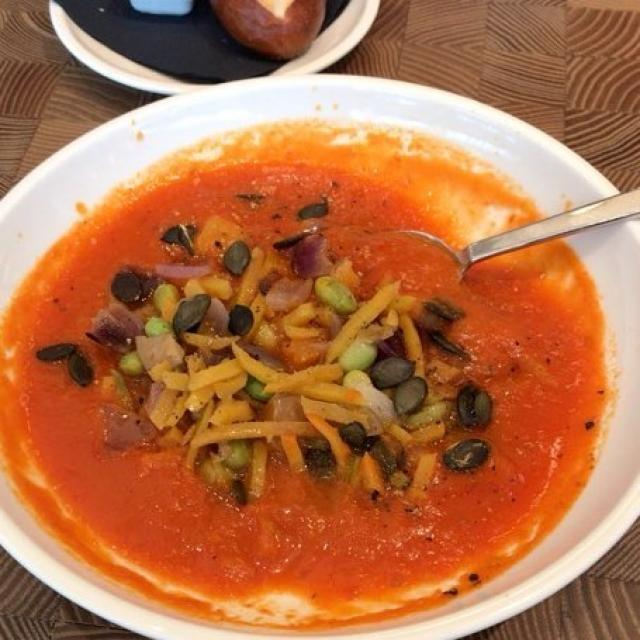mixed-vegetables: (29, 197, 504, 494)
pumpkin-seeds: (30, 190, 505, 507)
soup: (11, 136, 599, 615)
